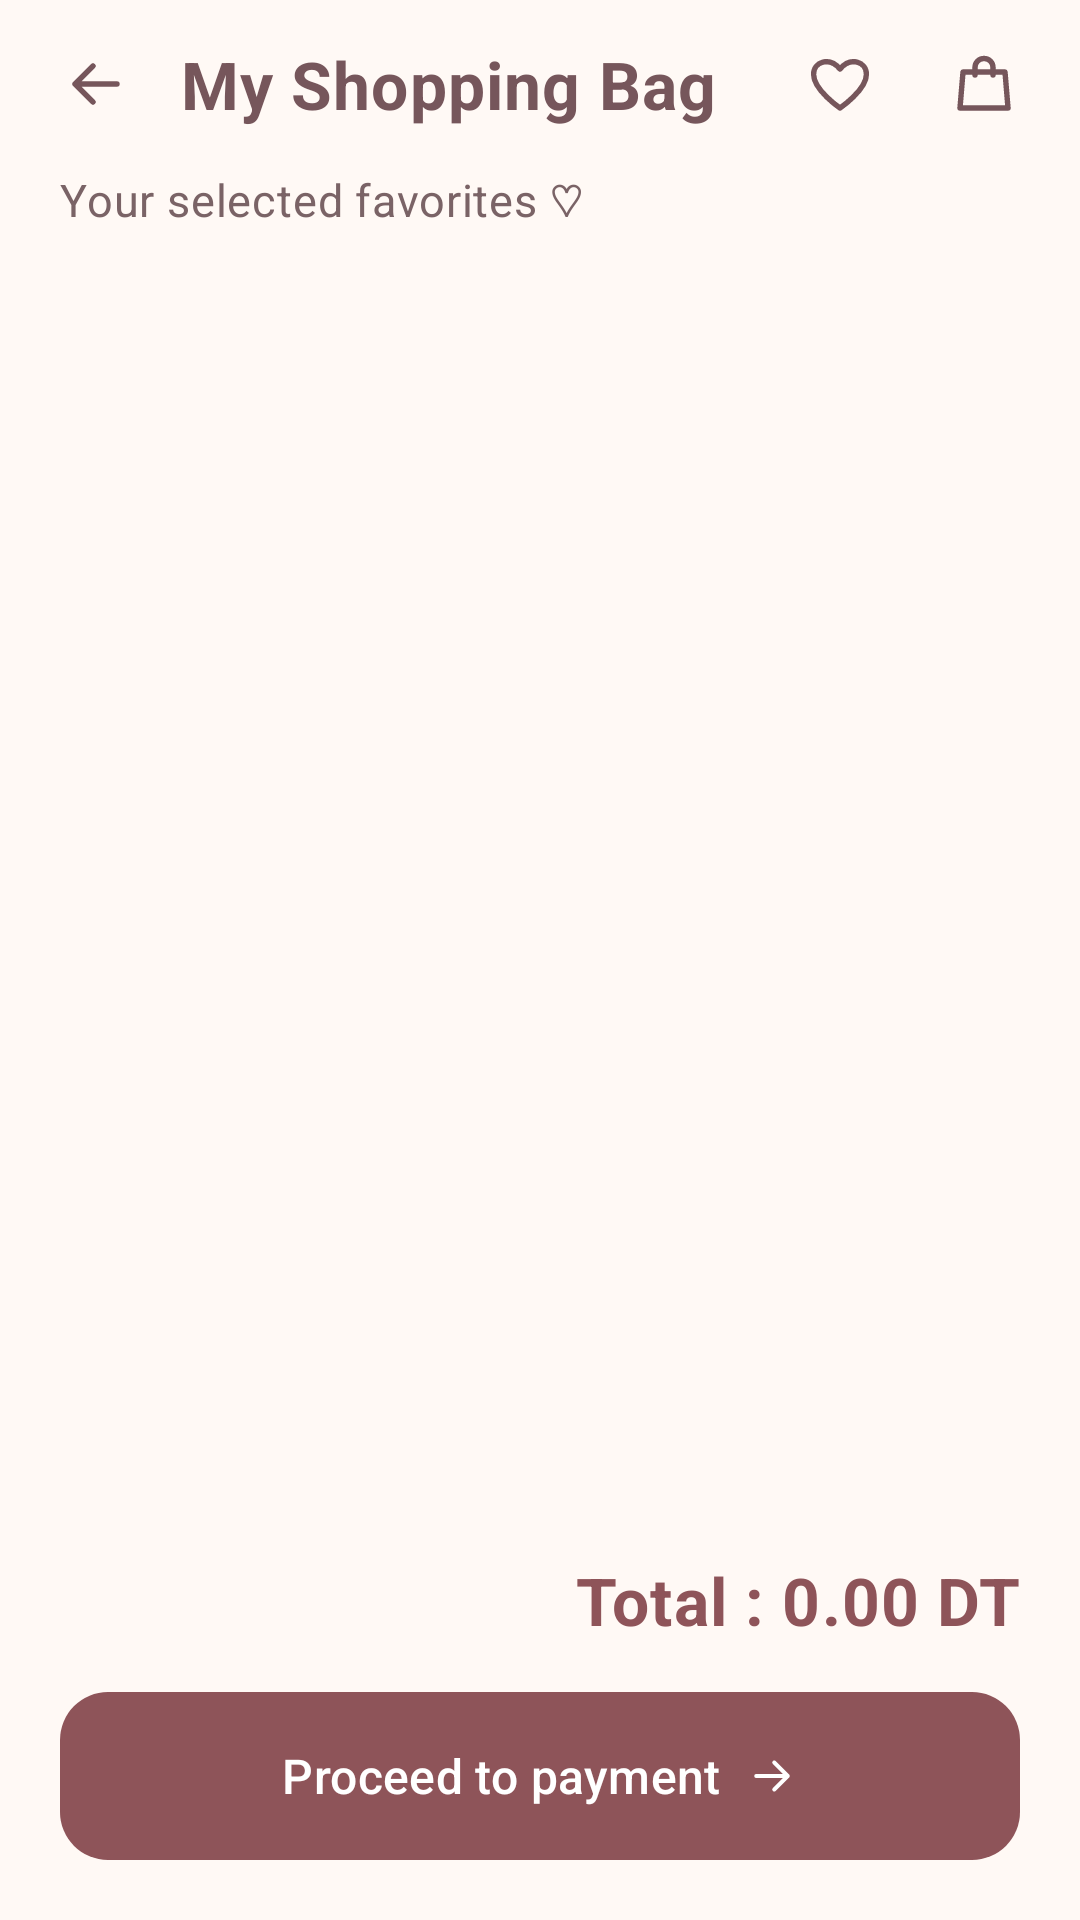

Where icons sit on this 1080px×1920px app screen, as (x1, y1, x2, y2):
Mes favoris: (811, 59, 869, 111)
Mon panier: (957, 55, 1011, 111)
Retour: (72, 63, 120, 105)
